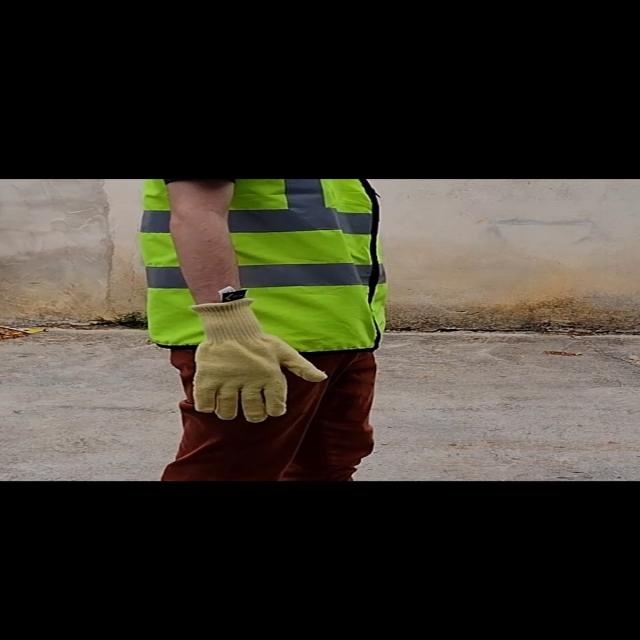glove: (181, 295, 335, 423)
pants: (162, 343, 386, 481)
vest: (140, 178, 392, 352)
